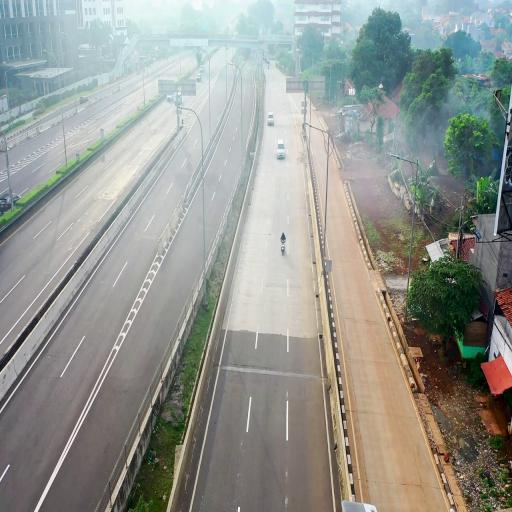vehicle: (276, 140, 286, 159), (280, 232, 287, 256)
